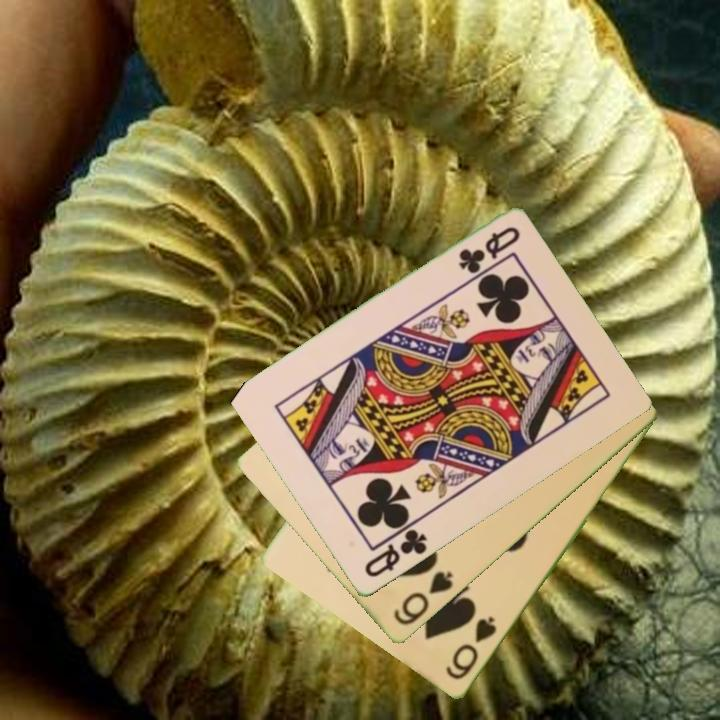6s: (442, 613, 500, 684), (390, 568, 456, 629)
Qc: (360, 518, 431, 581), (455, 223, 524, 277)
